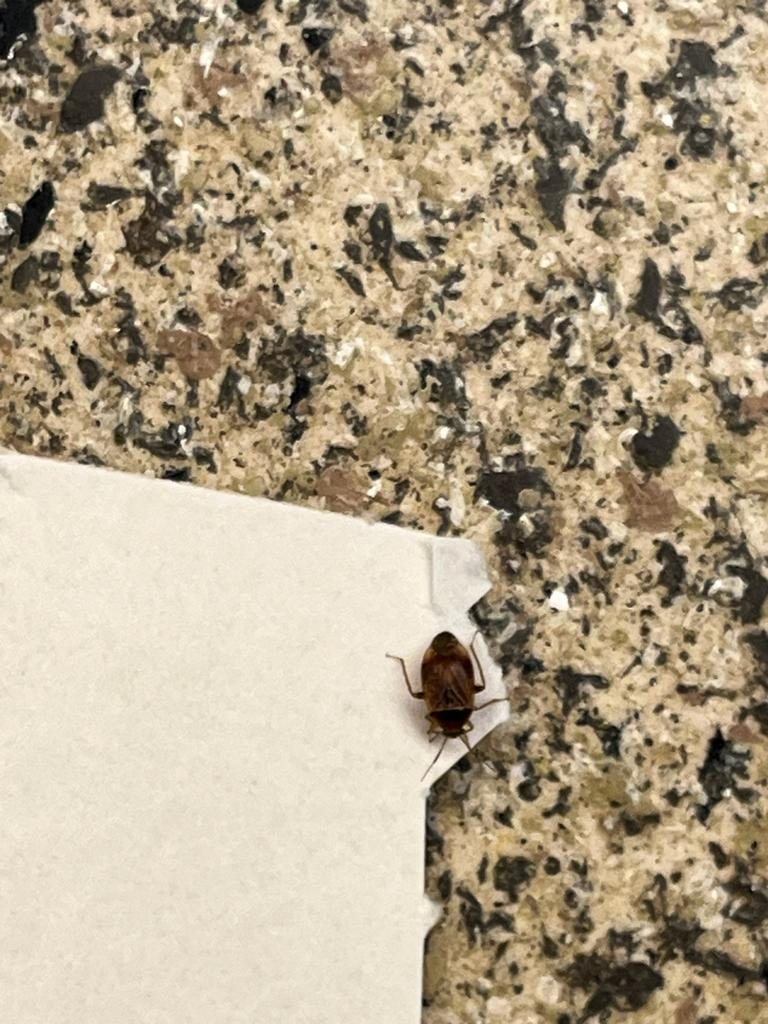plant_bugs: (366, 600, 538, 804)
